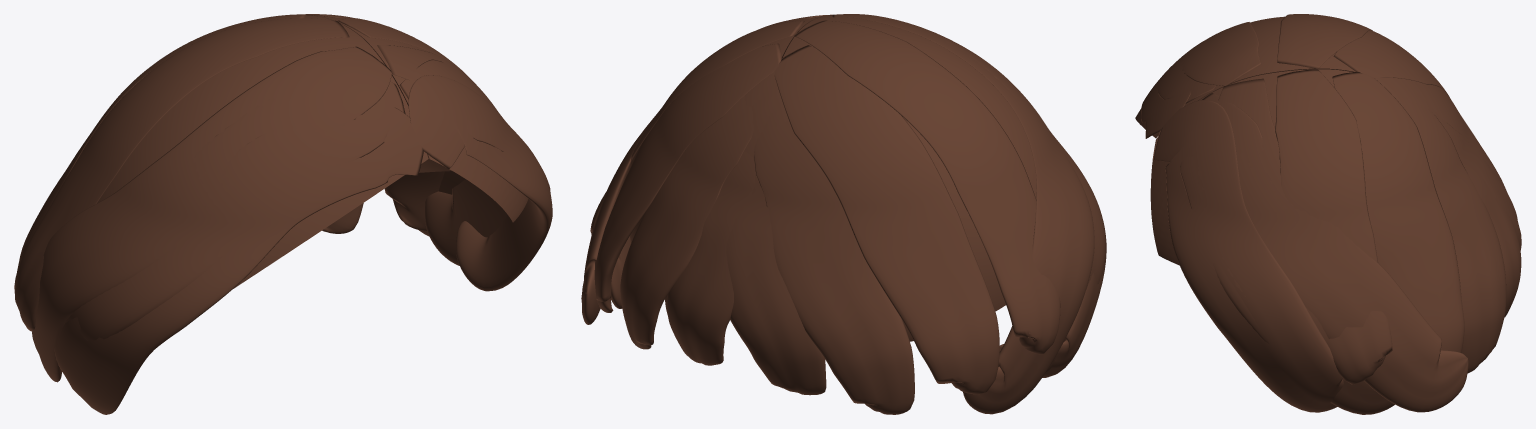
File: Masculine-flow-cowboy260-hair.glb
3 views of the same model, side by side, from view 1: azimuth 30°, elevation 25°; view 2: azimuth 150°, elevation 25°; view 3: azimuth 270°, elevation 25° (orthographic). The views are drawn at different scales.
Visible parts, largest first — view 1: 226 hair / Hair260 / layered flow; view 2: 226 hair / Hair260 / layered flow; view 3: 226 hair / Hair260 / layered flow.
Boxes of the visible parts, x1,y1,x2,y2 form: 226 hair / Hair260 / layered flow: [14, 14, 552, 414]; 226 hair / Hair260 / layered flow: [581, 14, 1106, 414]; 226 hair / Hair260 / layered flow: [1135, 14, 1521, 414].
Size of the model in its own units: 1.1 by 0.7109 by 0.8307.
